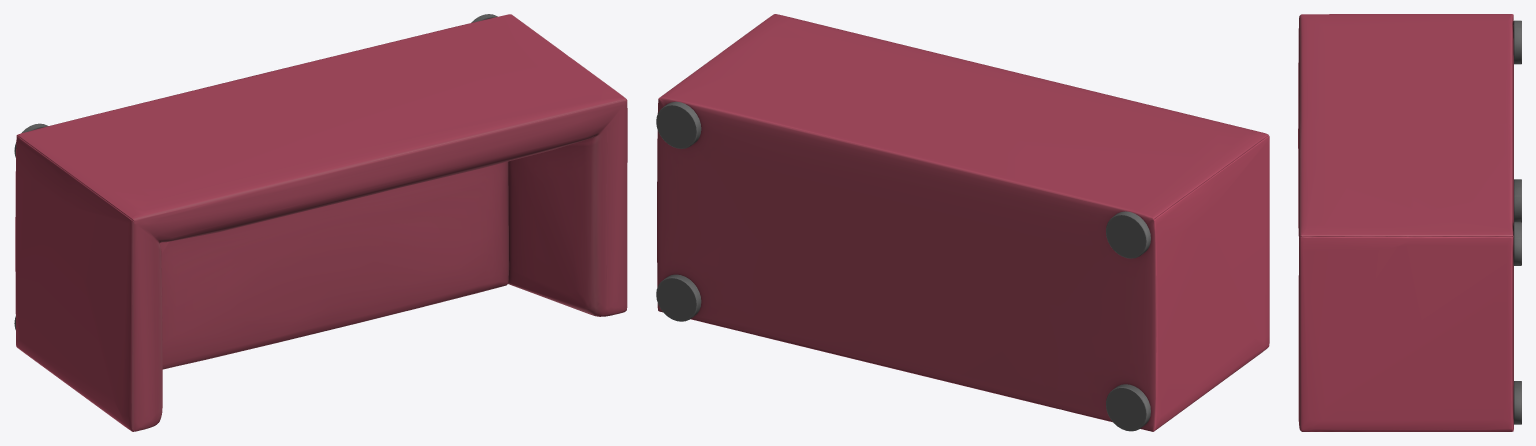
Rendered from raw_model.glb.
3 renders of one model, left to right at view 1: azimuth 30°, elevation 25°; view 2: azimuth 150°, elevation 25°; view 3: azimuth 270°, elevation 25°, orthographic. The views are drawn at different scales.
Parts seen in each view (by area): view 1: raw_model.048; view 2: raw_model.048; view 3: raw_model.048.
Boxes of the visible parts, x1,y1,x2,y2 form: raw_model.048: (14,14,627,431); raw_model.048: (656,14,1269,431); raw_model.048: (1298,14,1521,431).
Bounding box in the file's own units: 1.82 × 0.7558 × 0.7645.
1 material, 1 textured.
